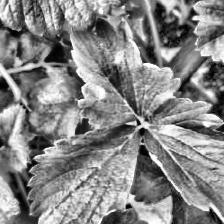Powdery Mildew Leaf: (70, 16, 182, 131), (141, 95, 224, 224), (0, 0, 139, 36), (33, 206, 153, 224)
